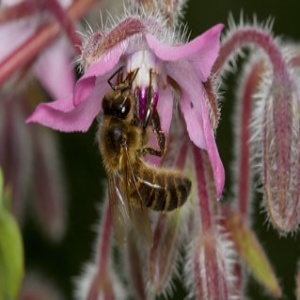bee: (95, 65, 195, 246)
